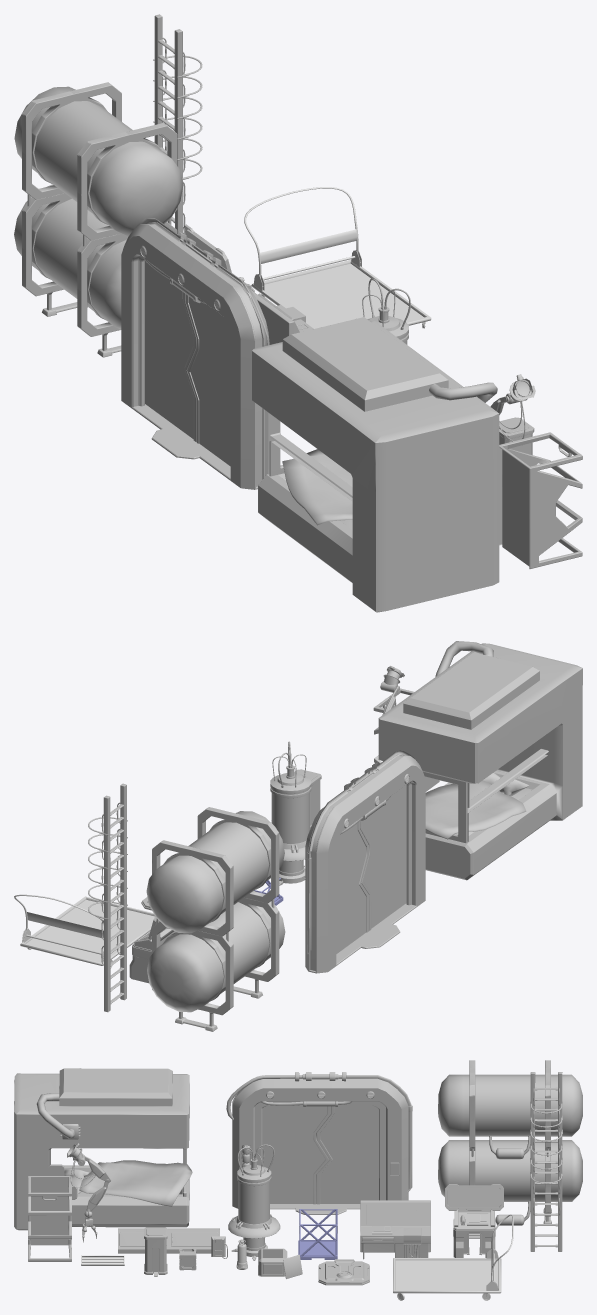
Rendered from uploads_files_4044829_sci_fi_asset_pack.fbx.
3 views of the same model, one above another, from view 1: azimuth 30°, elevation 25°; view 2: azimuth 150°, elevation 25°; view 3: azimuth 270°, elevation 25° (orthographic). The views are drawn at different scales.
Visible parts, largest first — view 1: bed, door, cuve, cart, storage_high, ladder, desk_02, tube, robot, trash; view 2: bed, cuve, door, cart, ladder, tube, desk_01, trash, robot; view 3: bed, door, cuve, cart, desk_02, storage_high, tube, desk_01, ladder, storage_long, box_01, hatch (+6 smaller).
Part boxes in pixels (<box>): bed: <box>252,317,499,612</box>; door: <box>121,218,269,489</box>; cuve: <box>14,82,183,357</box>; cart: <box>244,187,431,328</box>; storage_high: <box>499,432,582,568</box>; ladder: <box>153,14,202,233</box>; desk_02: <box>248,288,313,344</box>; tube: <box>362,278,410,344</box>; robot: <box>490,374,535,441</box>; trash: <box>499,417,534,454</box>; bed: <box>378,641,582,880</box>; cuve: <box>146,807,285,1031</box>; door: <box>305,750,425,973</box>; cart: <box>14,894,155,968</box>; ladder: <box>88,783,127,1012</box>; tube: <box>270,741,311,885</box>; desk_01: <box>129,917,176,983</box>; trash: <box>294,769,321,828</box>; robot: <box>380,666,404,714</box>; bed: <box>14,1068,192,1230</box>; door: <box>226,1072,412,1214</box>; cuve: <box>438,1060,582,1225</box>; cart: <box>393,1214,513,1300</box>; desk_02: <box>360,1200,430,1259</box>; storage_high: <box>28,1176,71,1261</box>; tube: <box>228,1144,280,1260</box>; desk_01: <box>445,1184,503,1257</box>; ladder: <box>530,1072,562,1251</box>; storage_long: <box>118,1228,219,1253</box>; box_01: <box>298,1209,337,1259</box>; hatch: <box>318,1259,369,1285</box>.
Size of the model in its own units: 603 by 453 by 1300.
